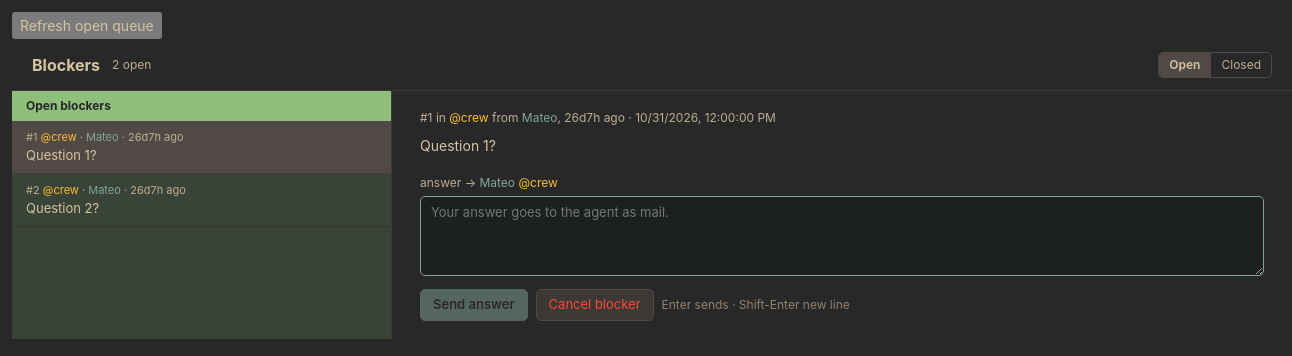
Test: closed blocker mode › reports a load error rather than an empty history and retries a refresh without stale rows
This screenshot has width=1292, height=356.
Click the button "Closed".
click(1241, 64)  # box left=1210, top=52, right=1271, bottom=76
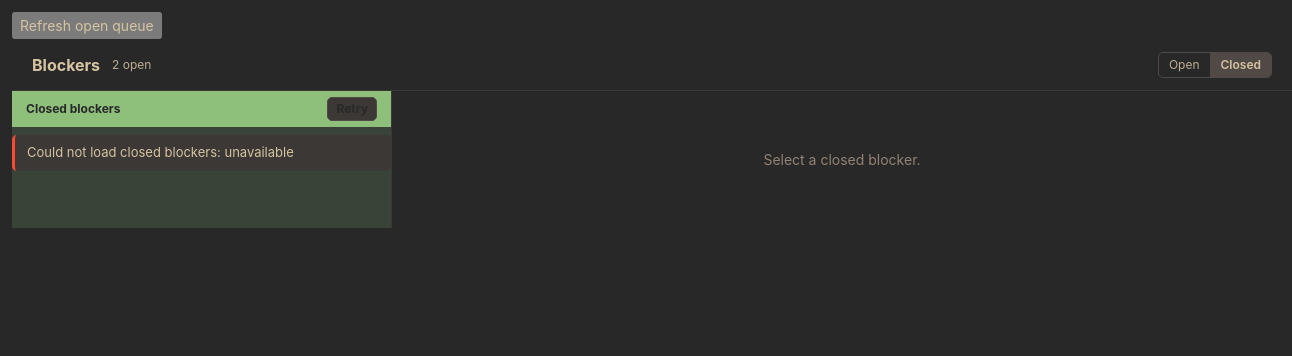
Expected: the message shows "unavailable", left=224, top=144, right=294, bottom=160
Click the button "Retry".
click(352, 109)  # box left=327, top=97, right=377, bottom=121
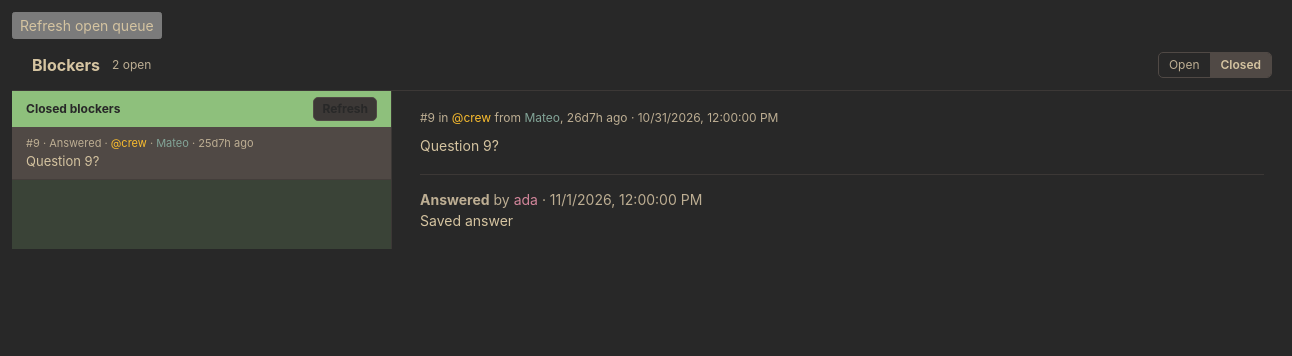
Click the button "Refresh".
click(345, 109)  # box left=313, top=97, right=377, bottom=121
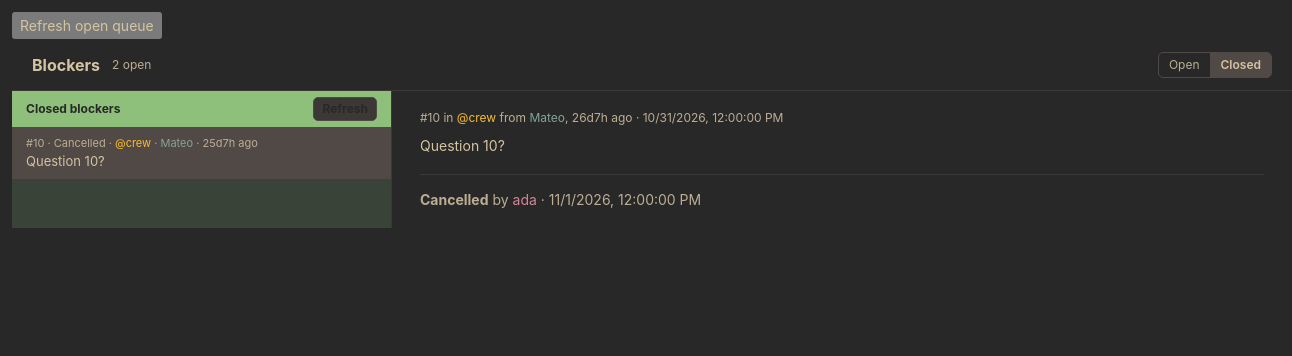
Expected: the text "Question 9?" is not shown
Expected: the text "Question 10?" below "Closed blockers" is shown, left=26, top=152, right=105, bottom=168
